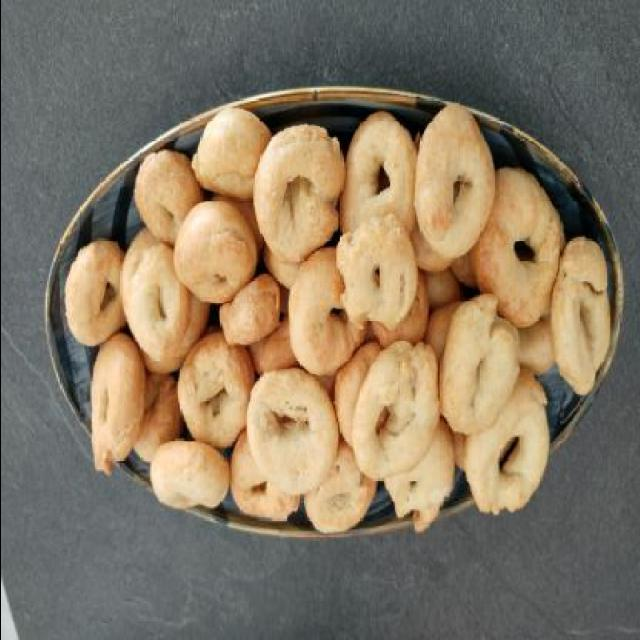Taralli: (55, 102, 616, 536)
